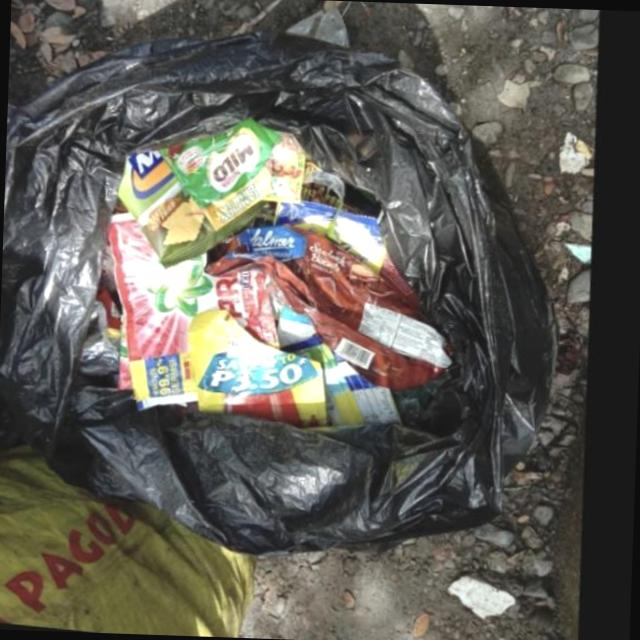bao_bi_thuc_pham: (207, 228, 456, 391), (119, 157, 277, 278), (276, 199, 391, 279)
goi_nhua_nho: (112, 219, 285, 418), (192, 315, 332, 432), (161, 123, 286, 238), (285, 341, 406, 429)
